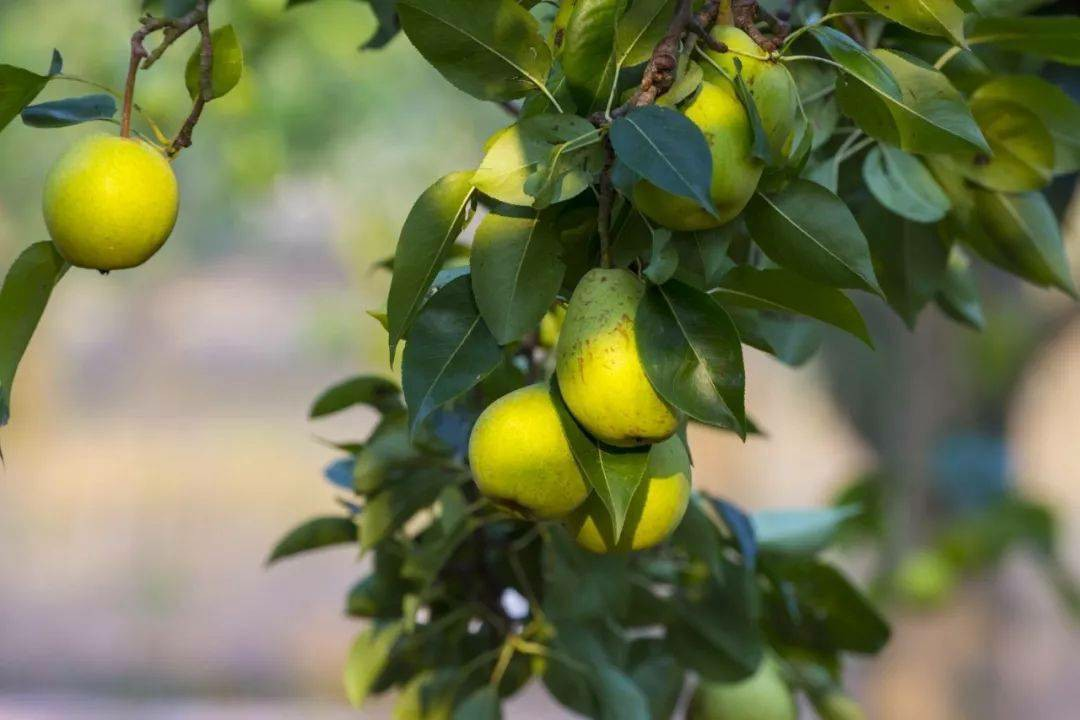pear: (551, 266, 693, 446), (610, 58, 759, 223), (465, 378, 604, 517), (558, 406, 688, 550), (45, 132, 176, 270), (688, 20, 800, 165)
